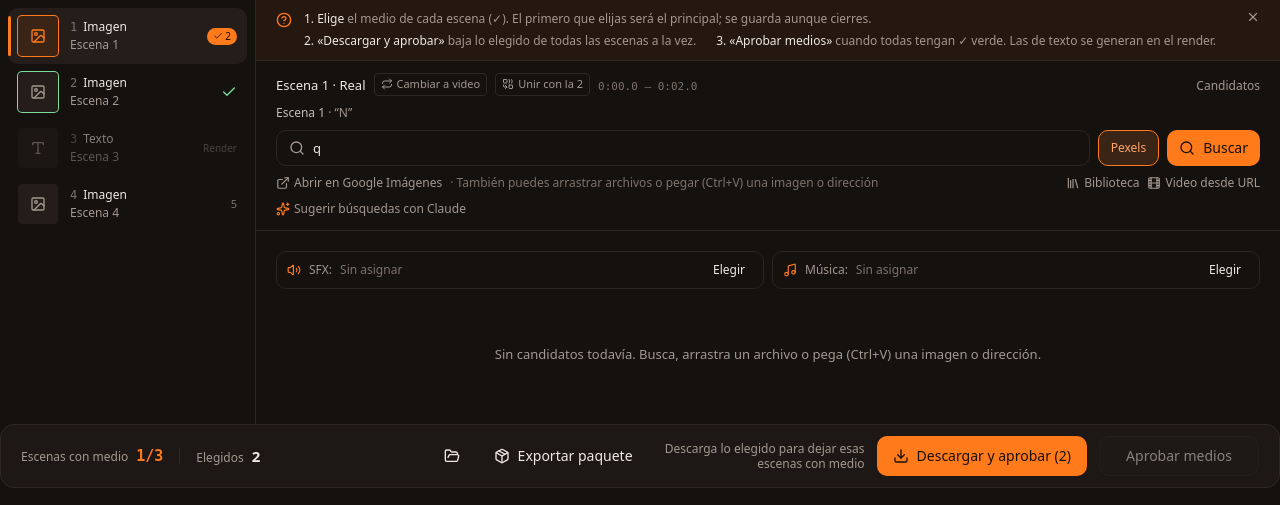
Test: flujo de medios en pantalla › una escena de material real también se puede pasar a video
What coordinates should you click on to do the following:
click the button "Cambiar a video"
I would click on:
 (430, 84)
Its box is top-left (374, 73), bottom-right (487, 96).
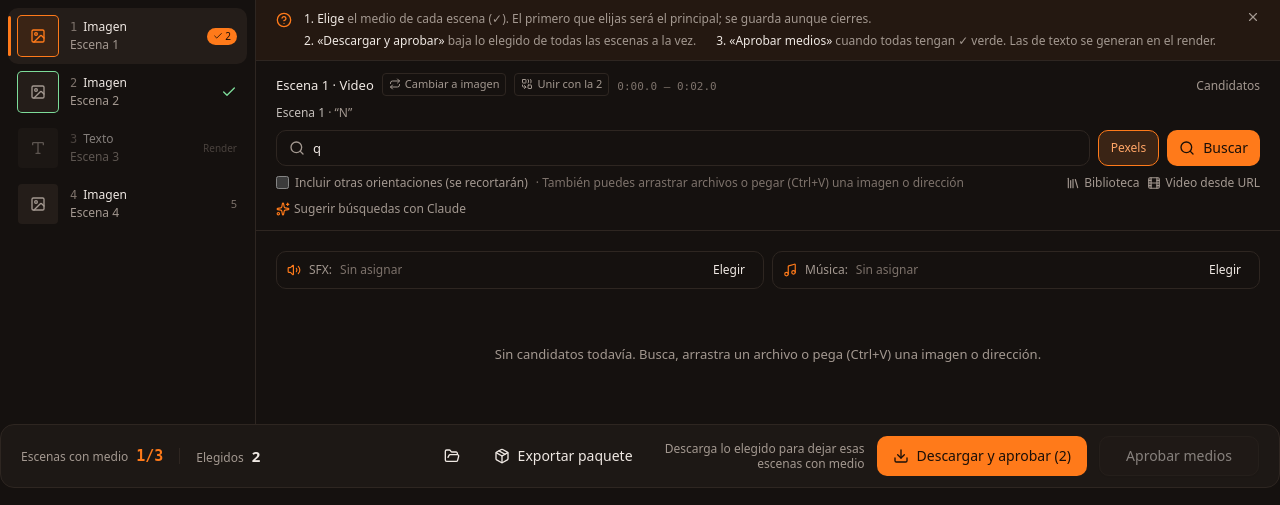
Expected: the text "Escena 1 · Video" is shown, top-left (276, 76), bottom-right (374, 96)
